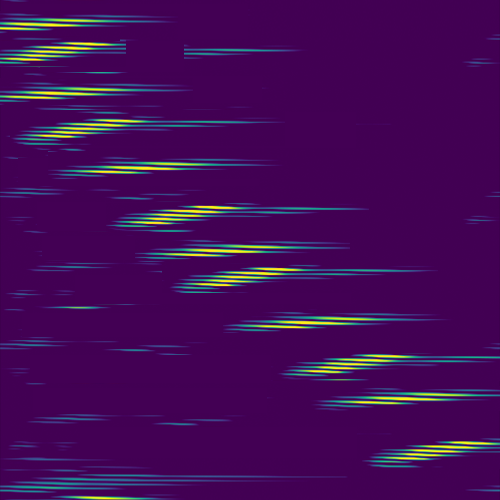semblance: (298, 350, 422, 376), (1, 39, 119, 66), (382, 437, 500, 464), (191, 264, 308, 289), (26, 116, 157, 138), (131, 204, 244, 226), (82, 159, 207, 178), (1, 84, 134, 101), (157, 242, 288, 259), (1, 14, 121, 32), (255, 313, 374, 331), (341, 391, 474, 406)
